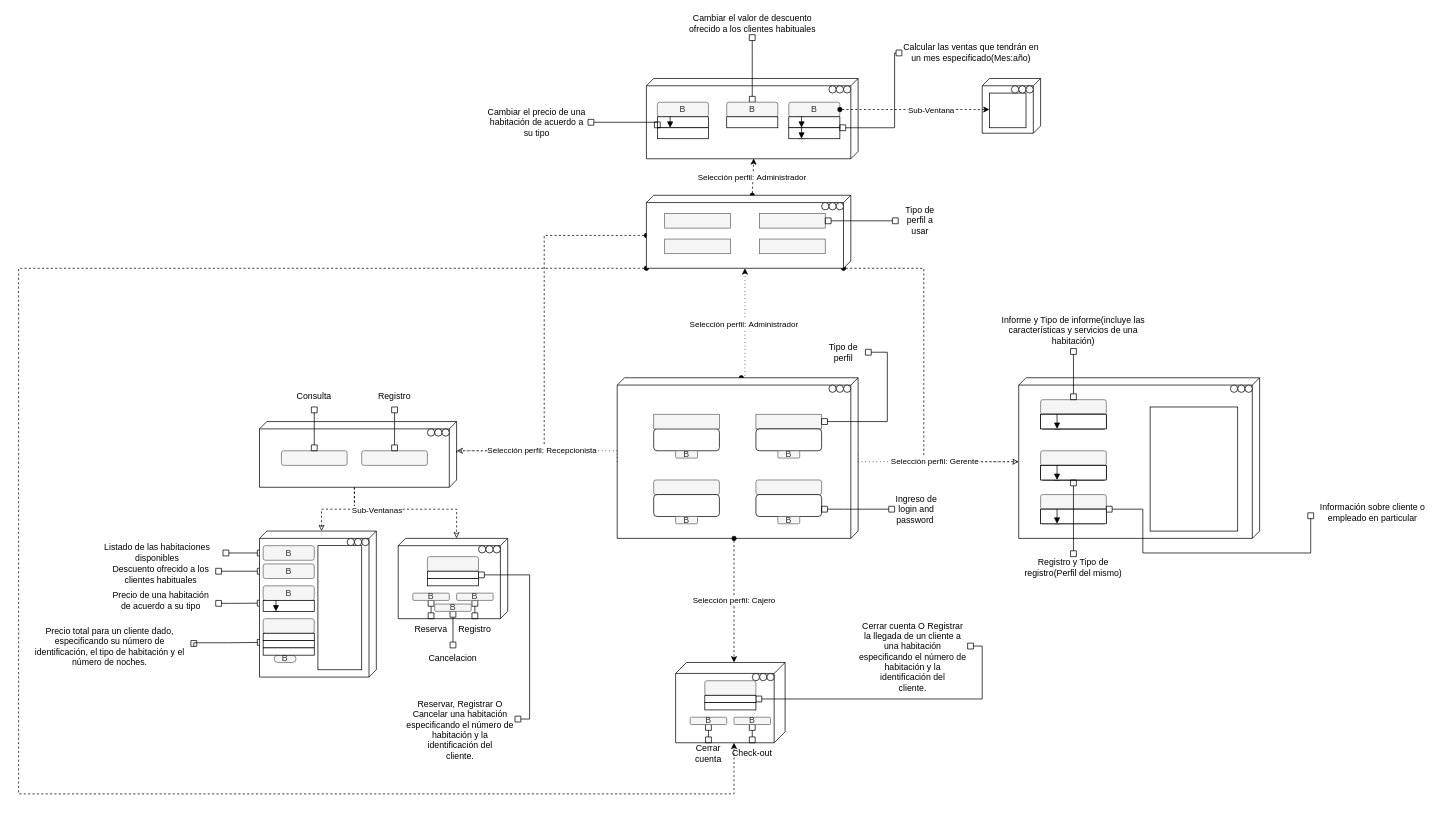
The diagram is 1448 pixels wide and 813 high, and some of its shapes have lost their labels. The shapes that lost their labels are listed below. From the top down, each one's centre as x and y in pixels, then its label:
At point 1007,110: "Ventas Del Mes".
At point 1193,468: "Información a mostrar".
At point 339,607: "Resultado búsqueda".
